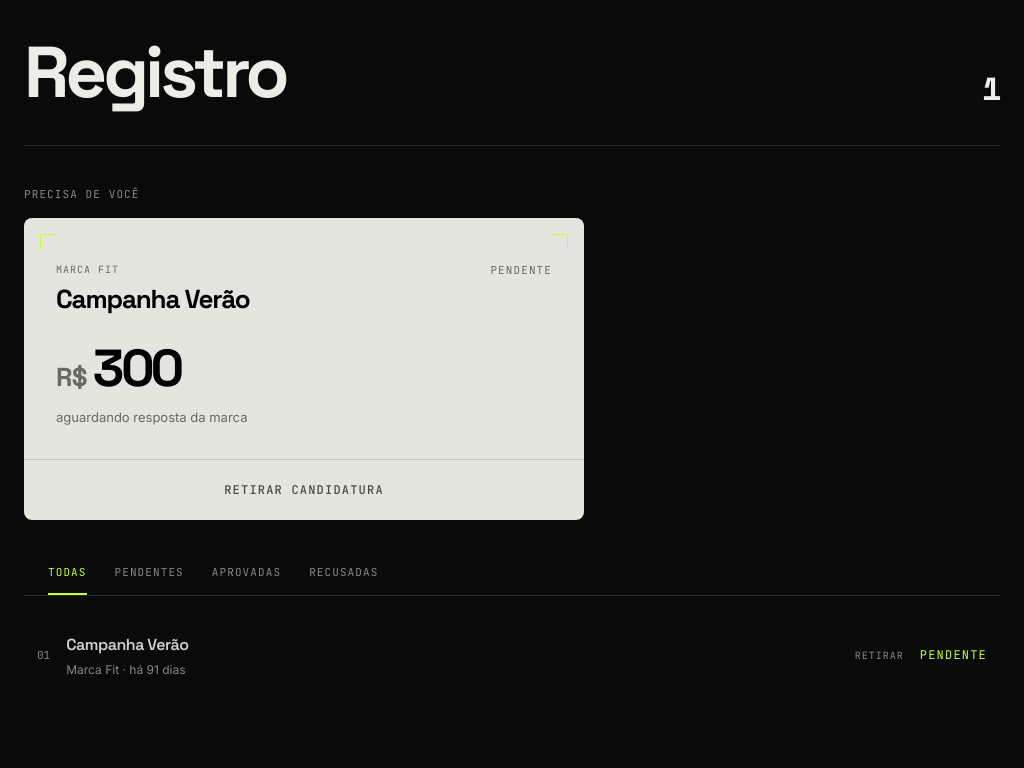
Test: MyApplicationsPage › a confirmação avisa que não dá pra se candidatar de novo
Click the button "Retirar candidatura" at point(304, 490), box x1=24 y1=460 x2=584 y2=520
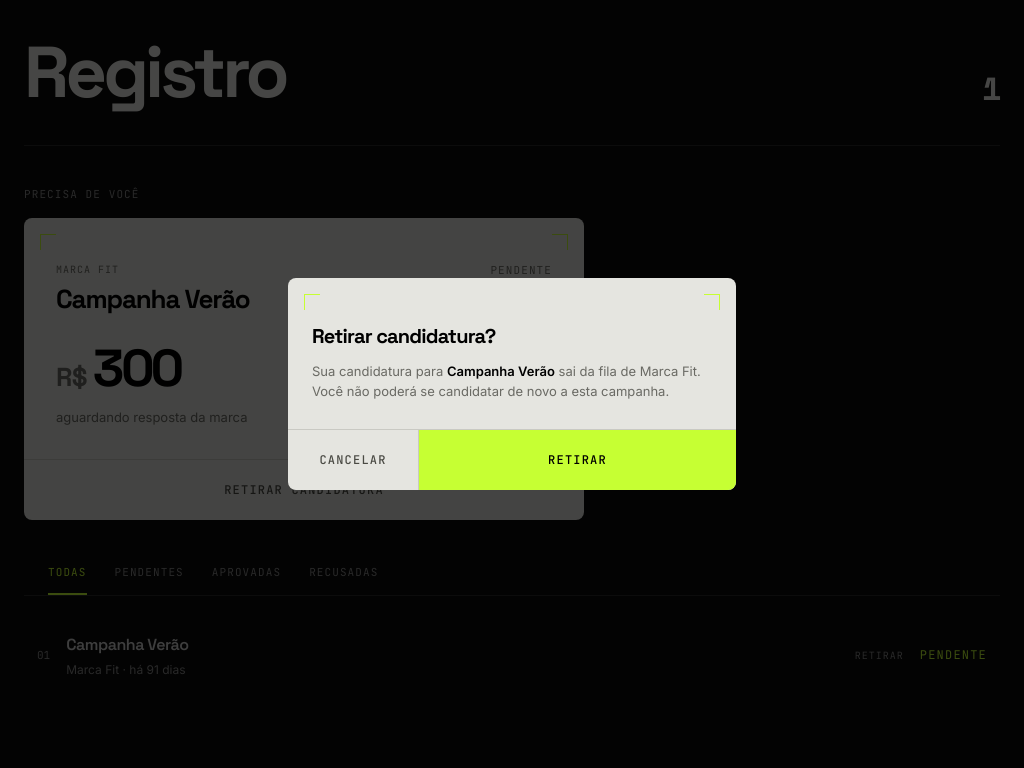
Check: the text "não poderá se candidatar de novo" is shown, box x1=312 y1=363 x2=701 y2=398
